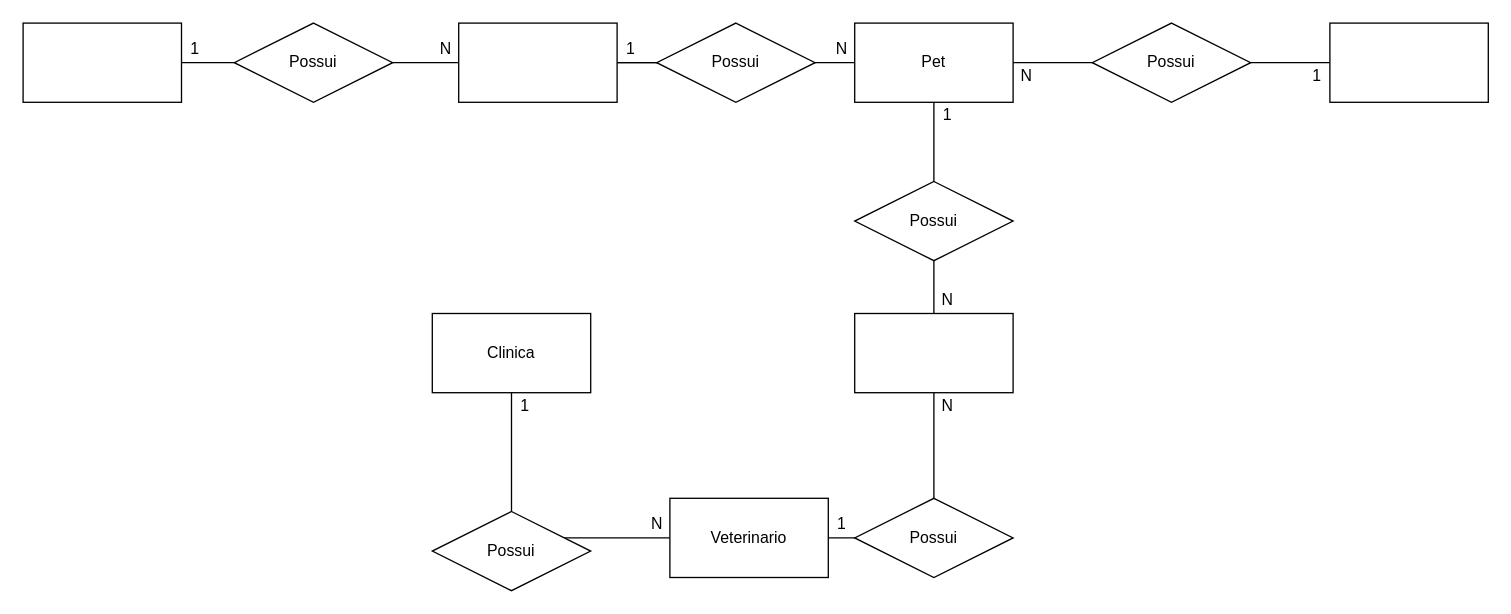
Image size: 1511x614. Some labels were removed from this diagram. The box of each missing label's shape, as (x1, y1, x2, y2) in pixels:
Atendimento: (853, 312, 1013, 393)
Donos: (1329, 22, 1488, 102)
raça: (457, 22, 617, 102)
TipoPet: (22, 22, 182, 102)
